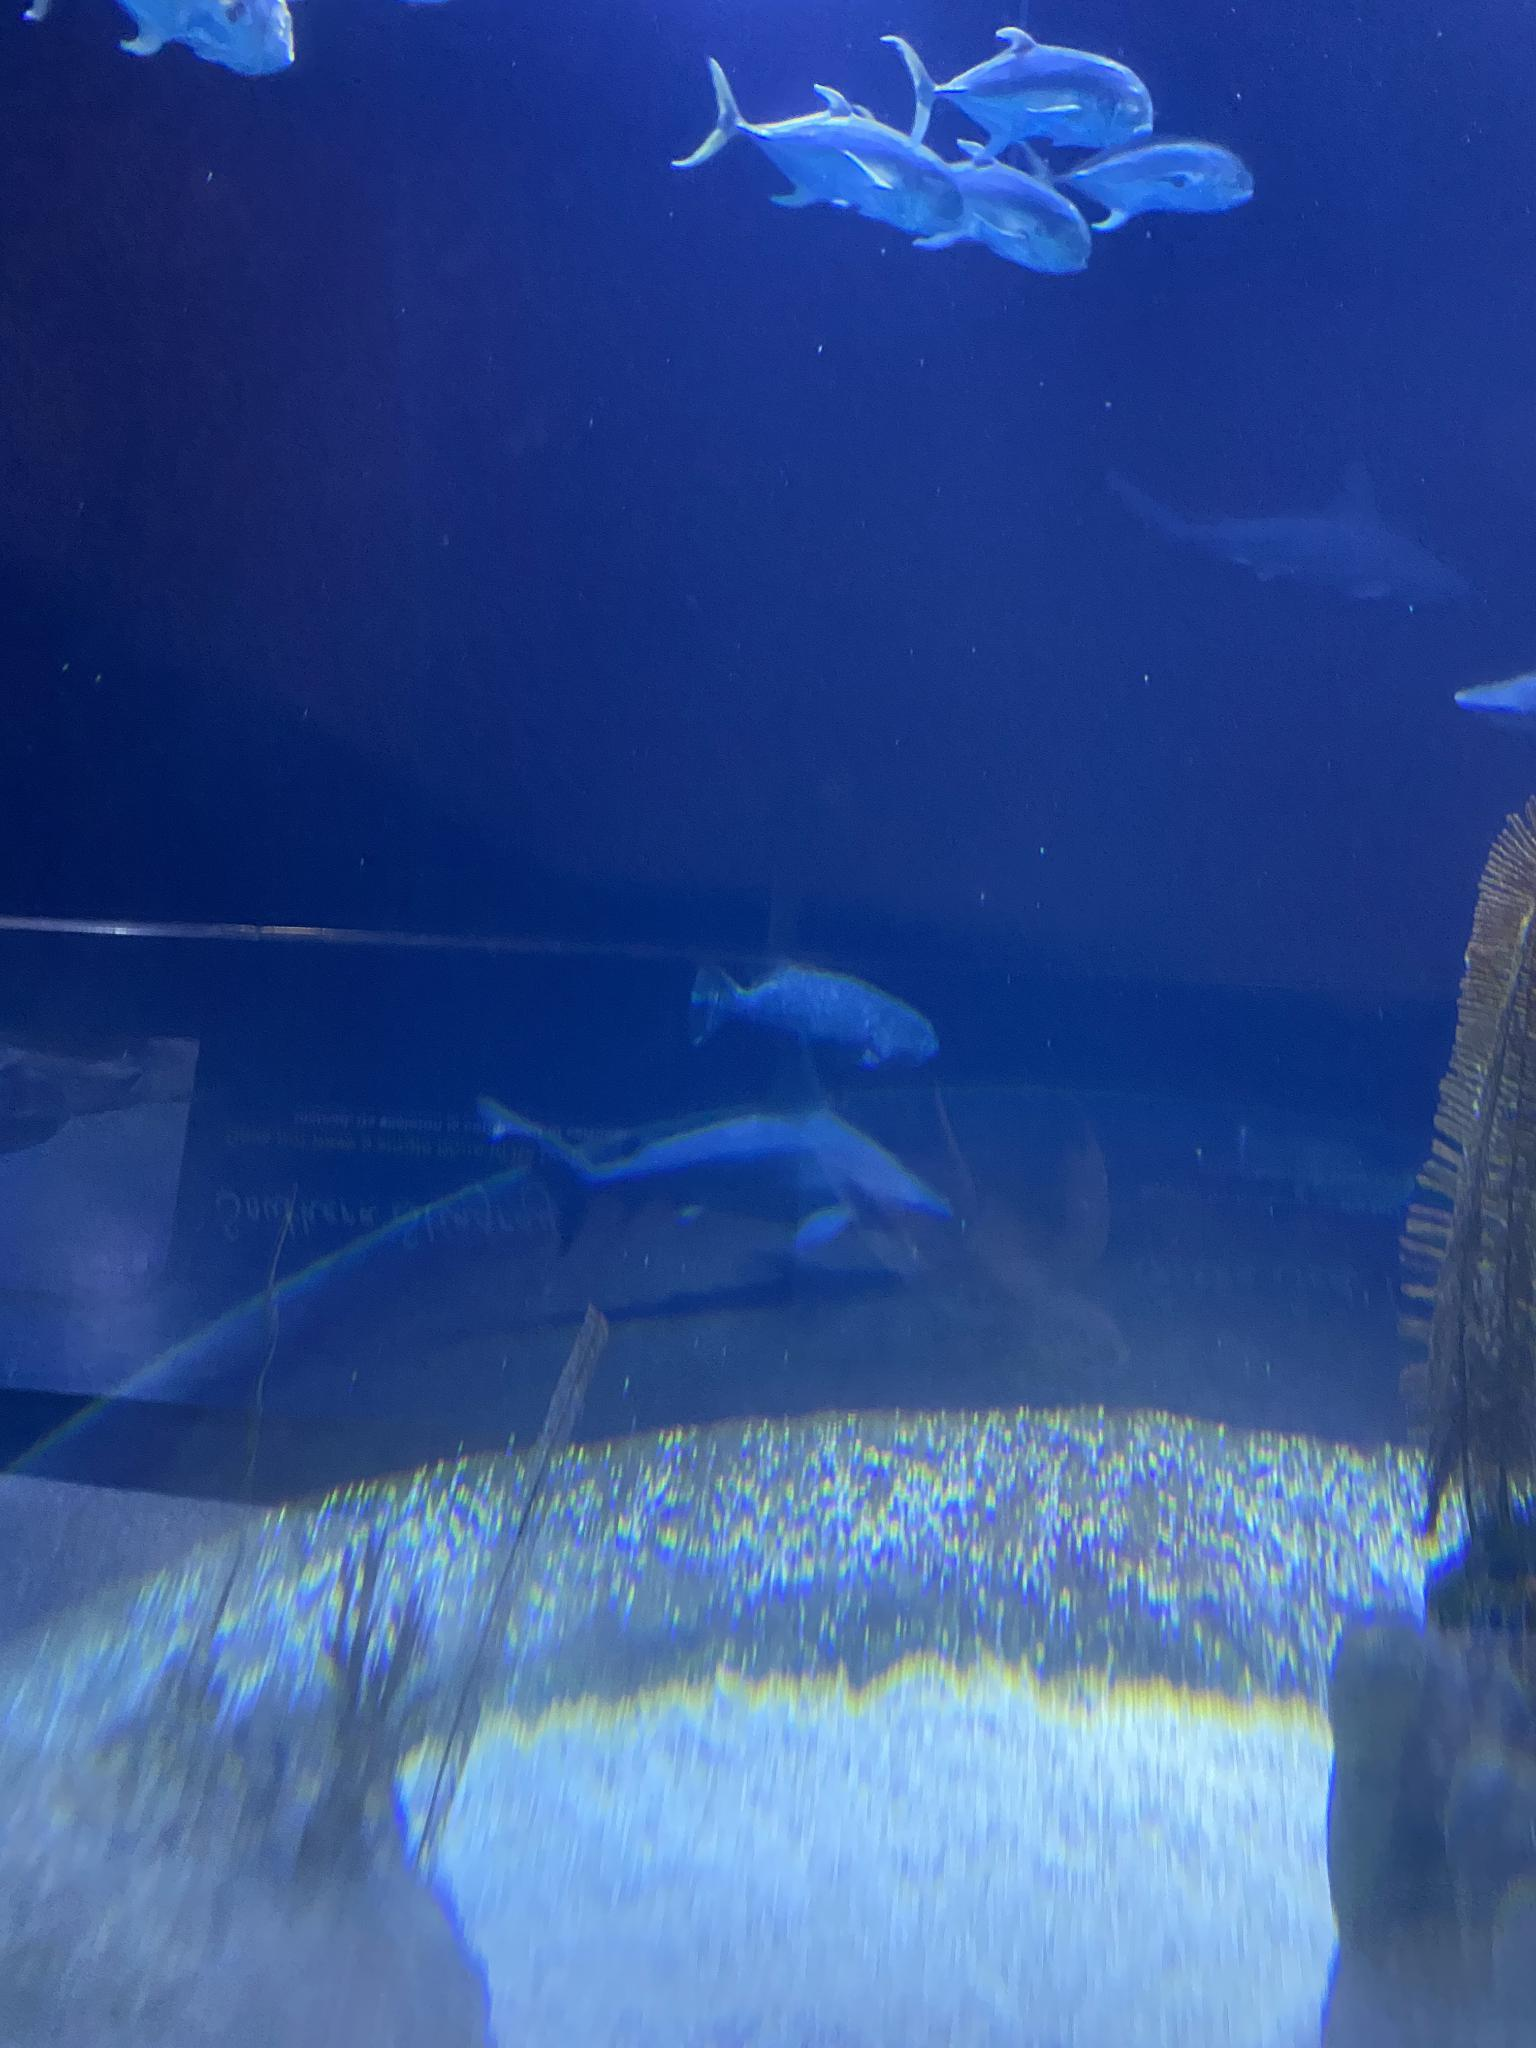fish: (686, 60, 962, 234), (892, 35, 1162, 153), (699, 948, 944, 1072), (13, 0, 321, 94), (920, 135, 1092, 292), (1054, 121, 1263, 223)
shark: (457, 1066, 1007, 1279), (1097, 469, 1447, 622)
